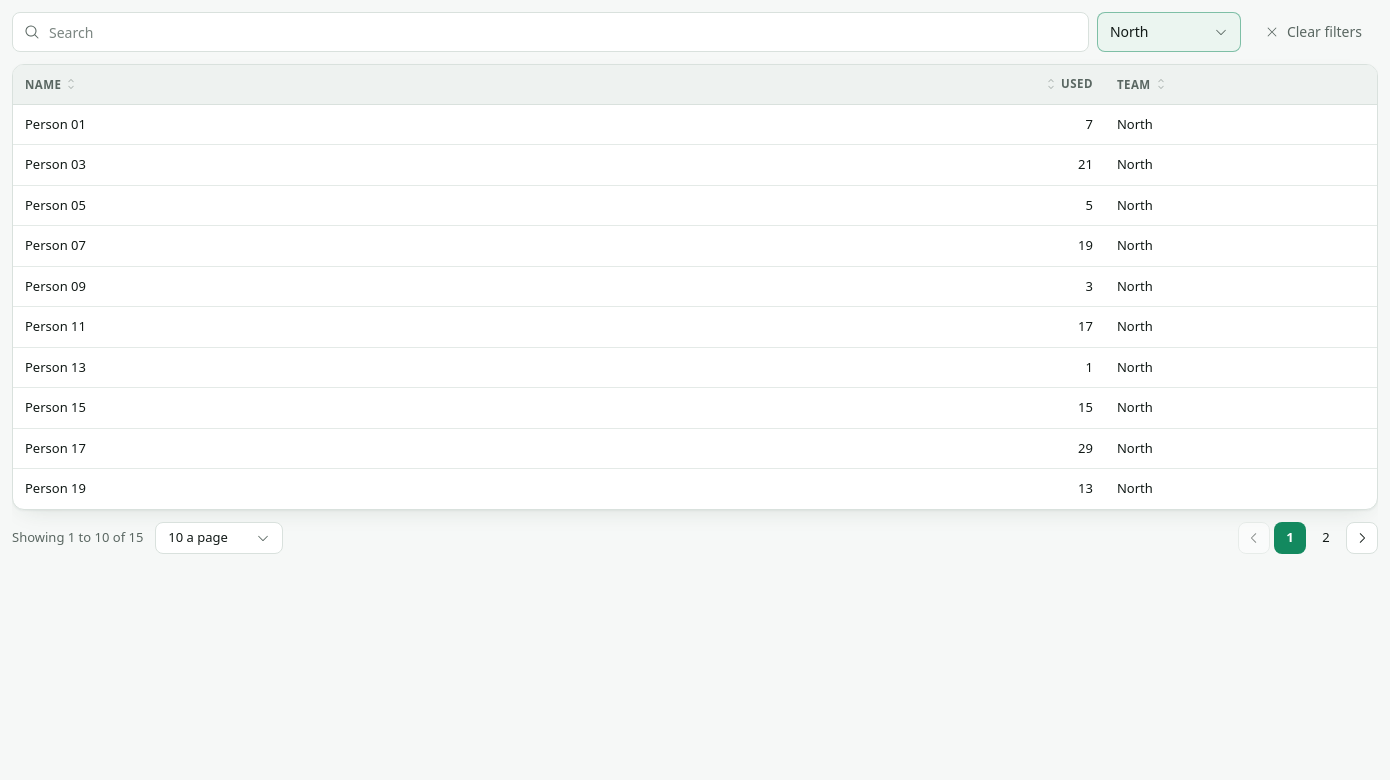
Scenario: P107: numbered pages, filter chips, row menus › filters with a chip select and clears every filter at once
Expected: the dropdown named "Team" reads "North", left=1097, top=12, right=1241, bottom=52
Expected: the text "Showing 1 to 10 of 15" is shown, left=12, top=528, right=143, bottom=548
Click the button "Clear filters" at (1313, 32), box left=1249, top=12, right=1378, bottom=52
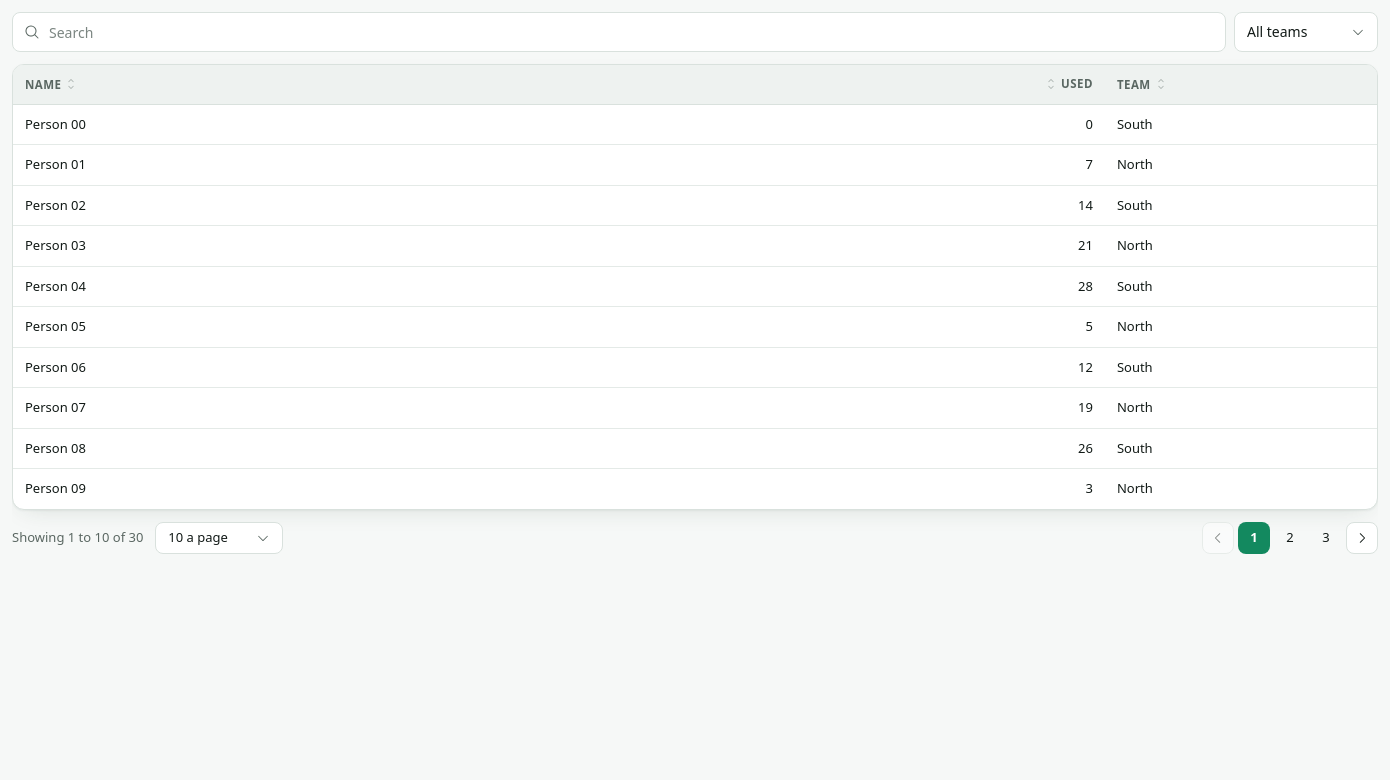
Expected: the dropdown labelled "team" reads "All teams", left=1234, top=12, right=1378, bottom=52
Expected: the text "Showing 1 to 10 of 30" is shown, left=12, top=528, right=143, bottom=548
Expected: the button "Clear filters" is gone
